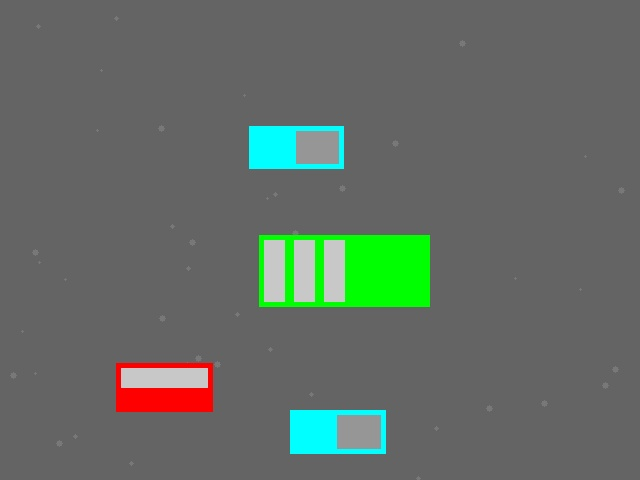bus: (259, 235, 429, 306)
car: (116, 363, 212, 411)
truck: (290, 410, 385, 453), (249, 126, 343, 168)
